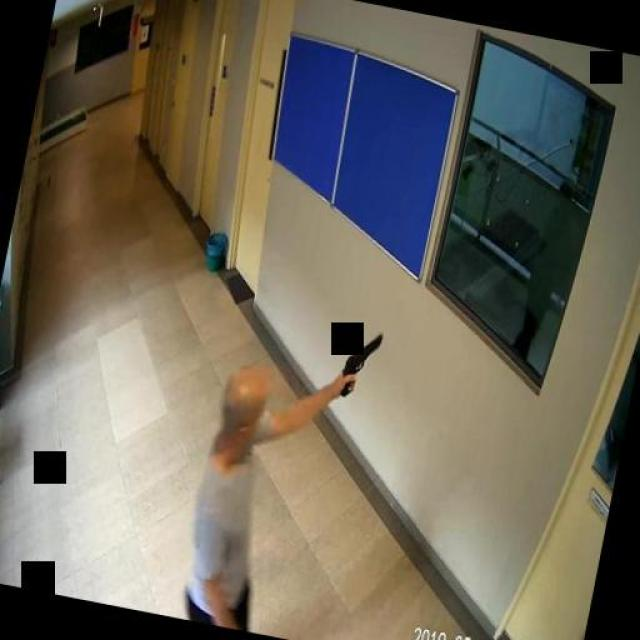gun: (338, 328, 382, 398)
